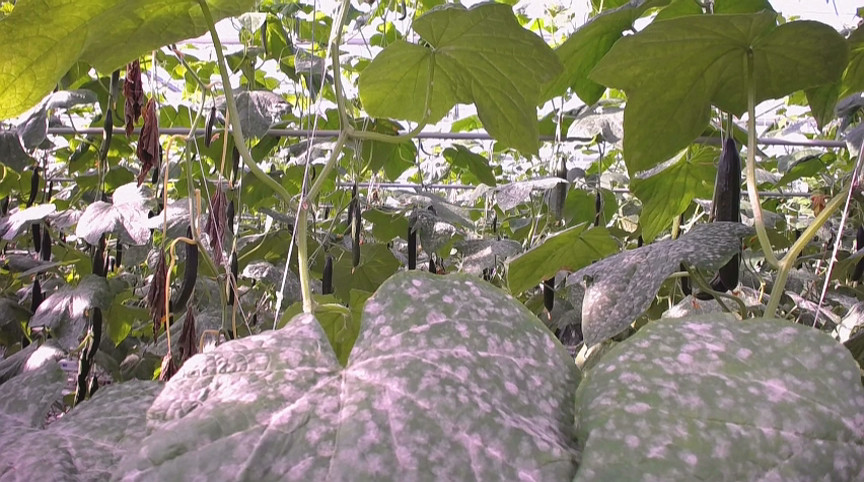cucumber: (717, 138, 741, 292), (173, 227, 197, 313), (88, 251, 104, 359), (551, 158, 568, 224), (98, 109, 113, 161), (350, 205, 362, 266), (26, 168, 41, 208), (204, 105, 217, 149), (544, 279, 556, 313)
